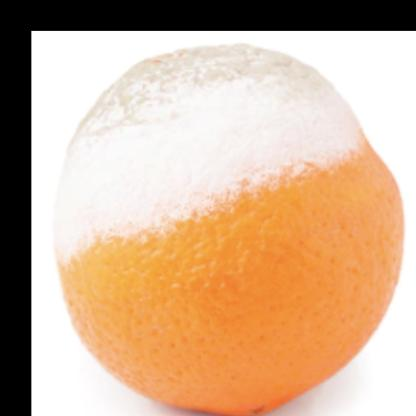rotten: (52, 43, 406, 416)
